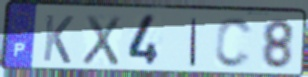4: (126, 12, 165, 70)
8: (260, 18, 297, 71)
C: (213, 16, 255, 71)
I: (188, 16, 200, 68)
K: (41, 13, 76, 66)
X: (80, 13, 123, 68)
